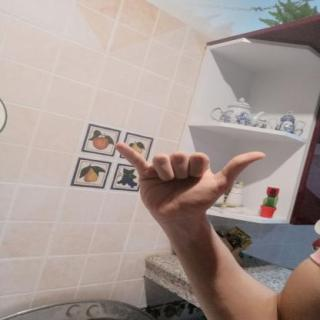YA: (103, 133, 277, 230)
